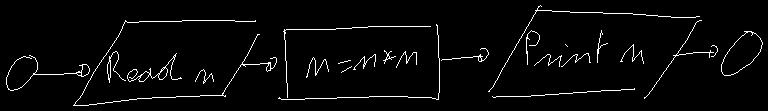arrow: (33, 64, 89, 76), (441, 48, 488, 61), (673, 45, 717, 57), (241, 57, 276, 71)
connection: (721, 31, 762, 75), (6, 55, 37, 90)
data: (488, 5, 701, 98), (73, 20, 259, 105)
process: (278, 24, 439, 99)
text: (526, 30, 643, 66), (107, 51, 213, 83), (306, 50, 416, 77)
